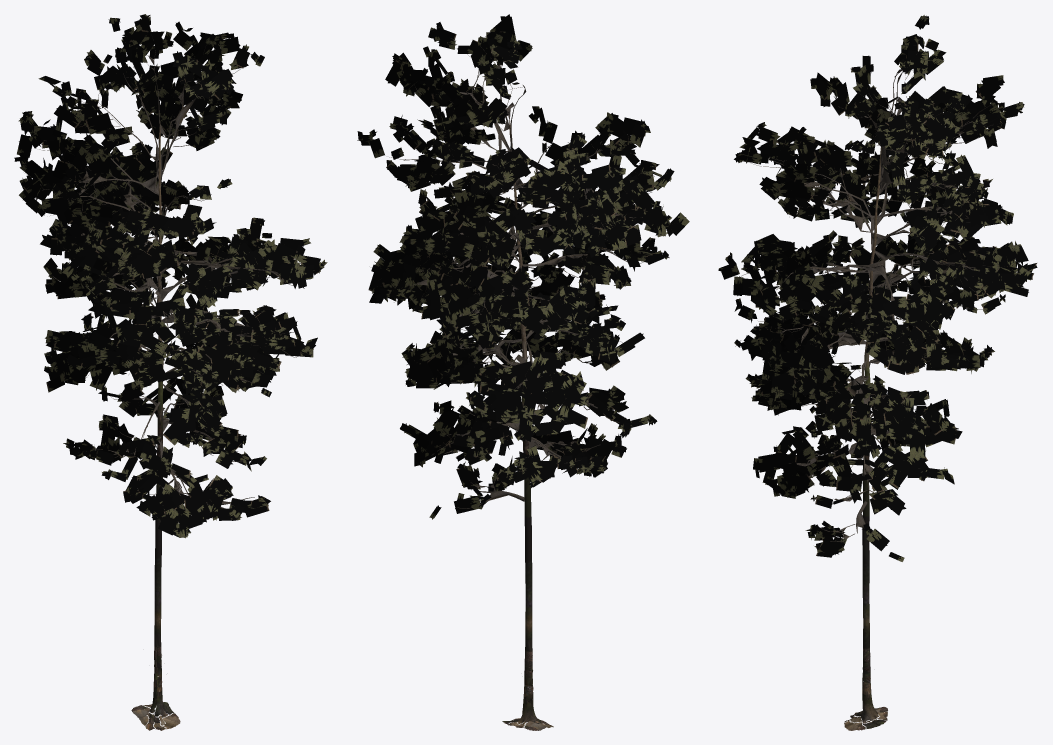
The model's file is pine.obj.
3 renders of one model, left to right at view 1: azimuth 30°, elevation 25°; view 2: azimuth 150°, elevation 25°; view 3: azimuth 270°, elevation 25°, orthographic. The views are drawn at different scales.
Parts seen in each view (by area): view 1: pine; view 2: pine; view 3: pine.
Part boxes in pixels (x1=…): pine: x1=14, y1=14, x2=327, y2=730; pine: x1=357, y1=14, x2=689, y2=730; pine: x1=718, y1=15, x2=1037, y2=730.
Bounding box in the file's own units: 0.3745 × 0.999 × 0.4127.
3 materials, 3 textured.
